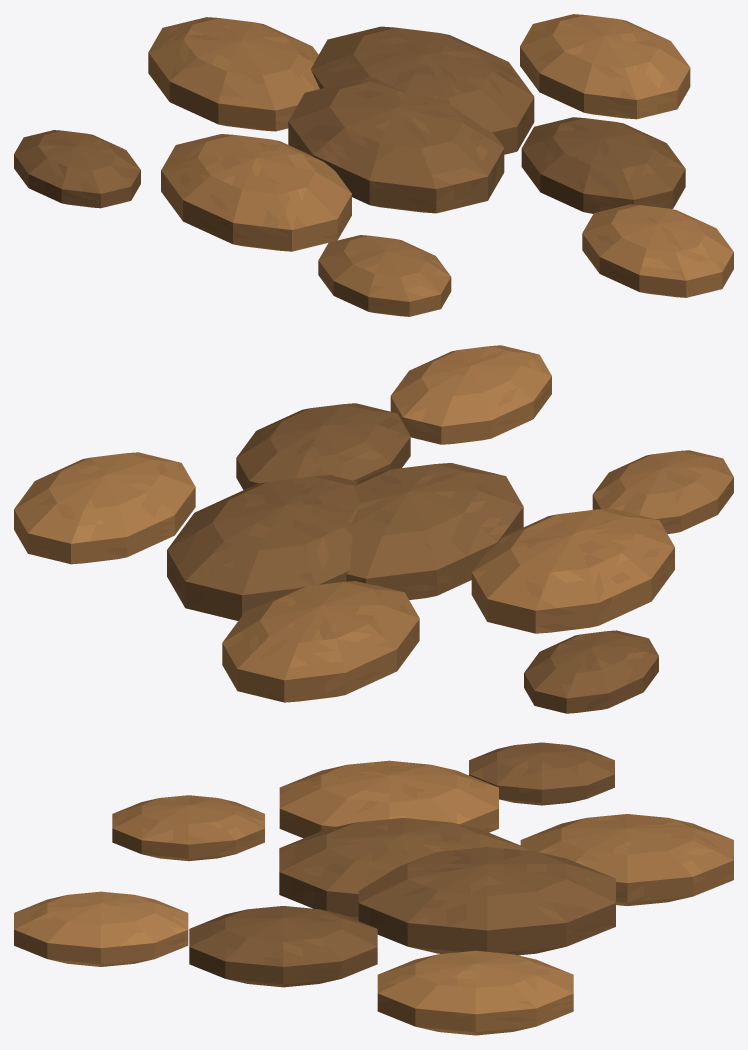
File: seed_onion.glb
3 renders of one model, top to bottom at view 1: azimuth 30°, elevation 25°; view 2: azimuth 150°, elevation 25°; view 3: azimuth 270°, elevation 25°, orthographic. The views are drawn at different scales.
Parts seen in each view (by area): view 1: block_grain 0, block_grain 2, block_grain 4, block_grain 1, block_grain 6, block_grain 3, block_grain 8, block_grain 5, block_grain 7; view 2: block_grain 1, block_grain 2, block_grain 4, block_grain 0, block_grain 6, block_grain 8, block_grain 3, block_grain 7, block_grain 5; view 3: block_grain 1, block_grain 6, block_grain 4, block_grain 3, block_grain 2, block_grain 0, block_grain 8, block_grain 5, block_grain 7.
Part boxes in pixels (x1,y1,x2,y2): block_grain 0: (288, 81, 504, 213); block_grain 2: (161, 134, 351, 251); block_grain 4: (148, 17, 319, 131); block_grain 1: (311, 26, 534, 154); block_grain 6: (520, 14, 690, 119); block_grain 3: (521, 117, 685, 213); block_grain 8: (582, 204, 733, 297); block_grain 5: (318, 235, 451, 316); block_grain 7: (14, 130, 140, 208); block_grain 1: (167, 475, 360, 620); block_grain 2: (471, 508, 674, 633); block_grain 4: (222, 581, 419, 702); block_grain 0: (346, 463, 523, 599); block_grain 6: (14, 452, 195, 564); block_grain 8: (390, 345, 551, 444); block_grain 3: (236, 403, 410, 489); block_grain 7: (524, 630, 658, 713); block_grain 5: (592, 450, 733, 533); block_grain 1: (358, 847, 615, 955); block_grain 6: (377, 950, 573, 1035); block_grain 4: (520, 814, 733, 906); block_grain 3: (189, 906, 377, 987); block_grain 2: (279, 760, 498, 838); block_grain 0: (279, 818, 527, 920); block_grain 8: (14, 891, 188, 966); block_grain 5: (112, 795, 264, 861); block_grain 7: (469, 742, 614, 805).
Size of the model in its own units: 0.0202 by 0.0026 by 0.022.
1 material, 1 textured.
